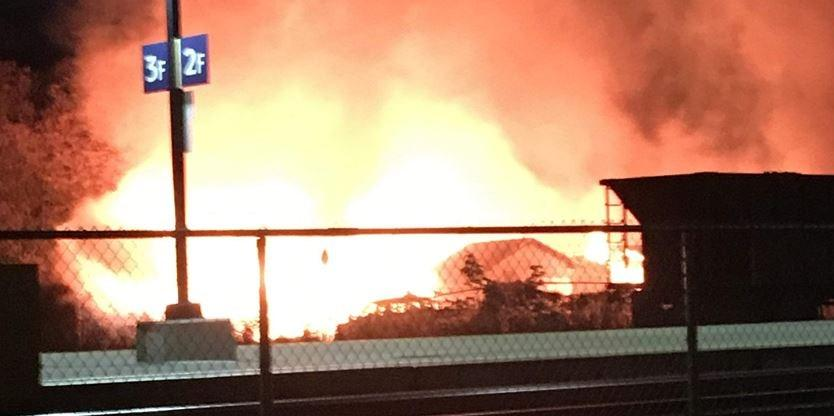Fire: (56, 146, 666, 327)
